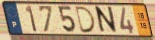1: (24, 4, 39, 33)
4: (118, 6, 136, 36)
5: (57, 5, 78, 35)
7: (38, 5, 54, 34)
D: (75, 6, 98, 34)
N: (95, 6, 119, 36)
